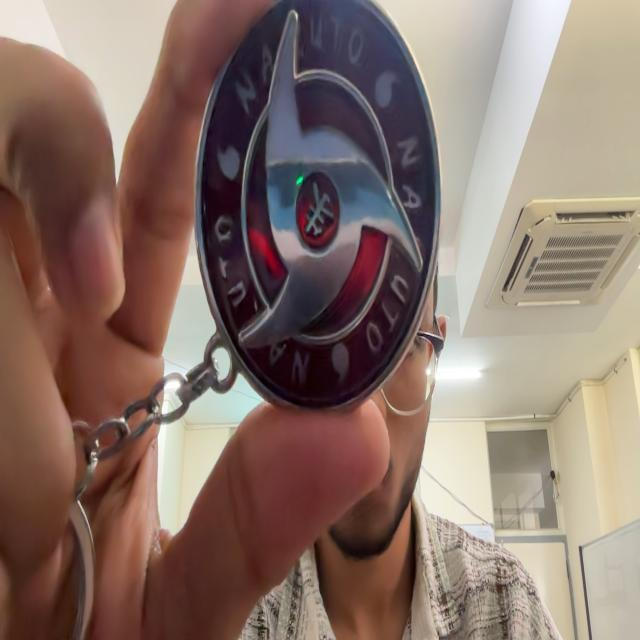dangerous: (69, 0, 441, 639)
